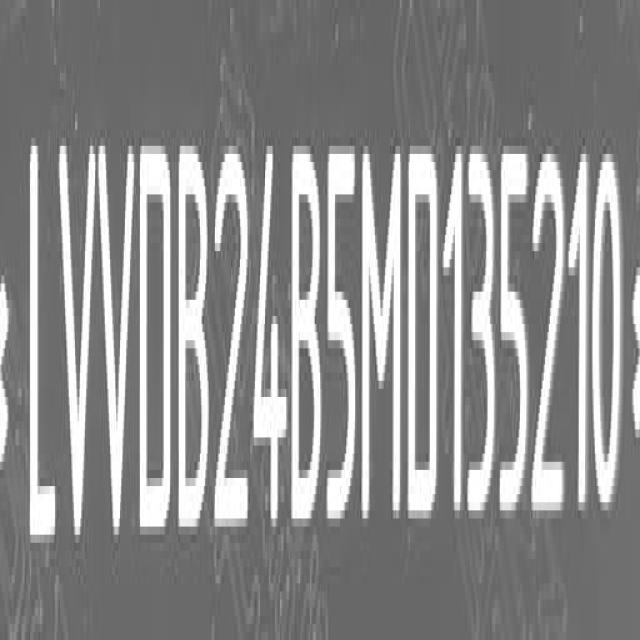0: (592, 141, 622, 531)
1: (442, 132, 466, 516), (569, 135, 590, 513)
2: (214, 144, 250, 534), (531, 150, 566, 507)
3: (465, 126, 495, 528)
4: (251, 132, 289, 525)
5: (500, 144, 530, 534), (326, 129, 354, 537)
B: (176, 132, 210, 537), (291, 141, 323, 522)
D: (138, 123, 173, 525), (407, 135, 440, 513)
L: (28, 135, 58, 564)
M: (357, 138, 403, 513)
V: (96, 123, 137, 549), (57, 129, 98, 552)
